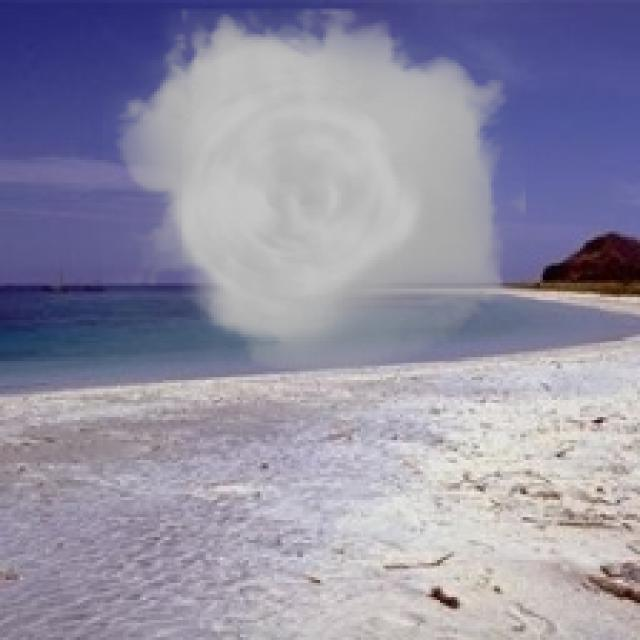smoke: (103, 9, 526, 377)
